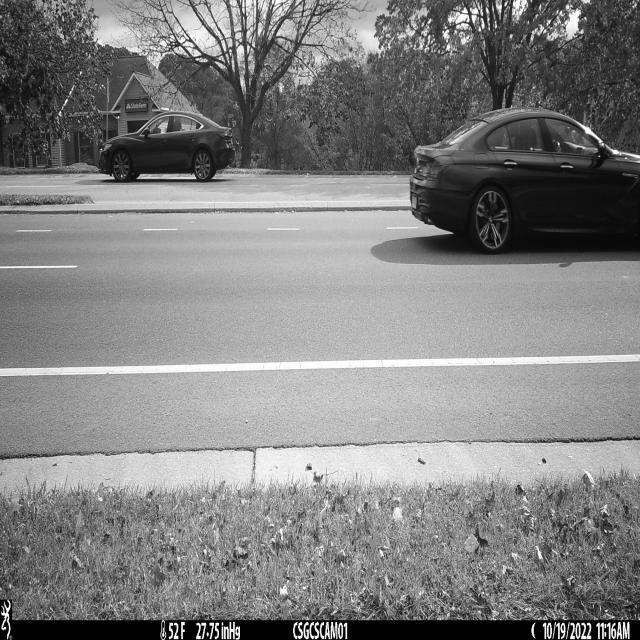Sedan: (409, 109, 640, 255), (101, 110, 234, 183)
